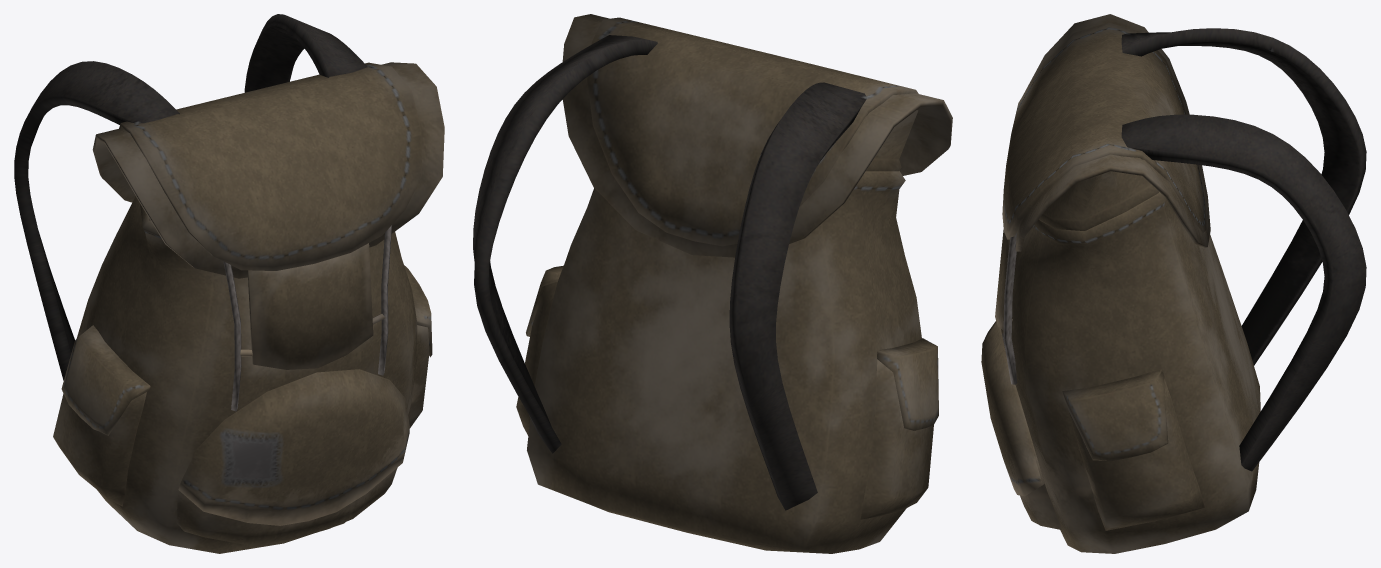
File: backpack.fbx
The picture shows the model from 3 angles, left to right: view 1: azimuth 30°, elevation 25°; view 2: azimuth 150°, elevation 25°; view 3: azimuth 270°, elevation 25°; orthographic projection. The views are drawn at different scales.
Parts seen in each view (by area): view 1: backpack; view 2: backpack; view 3: backpack.
Boxes of the visible parts, <box> form: backpack: <box>14,14,444,553</box>; backpack: <box>473,14,952,553</box>; backpack: <box>981,14,1366,553</box>.
Bounding box in the file's own units: 39.45 × 40.87 × 50.42.
Materials: 1 (1 with a texture image).
